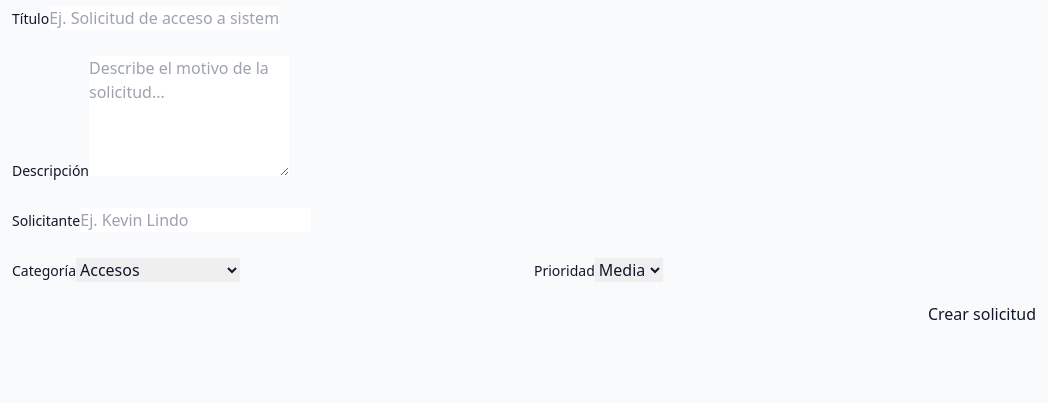
RequestForm › should render validation messages when required fields are empty
Click the button "Crear solicitud" at (982, 314), box x1=928 y1=302 x2=1036 y2=326
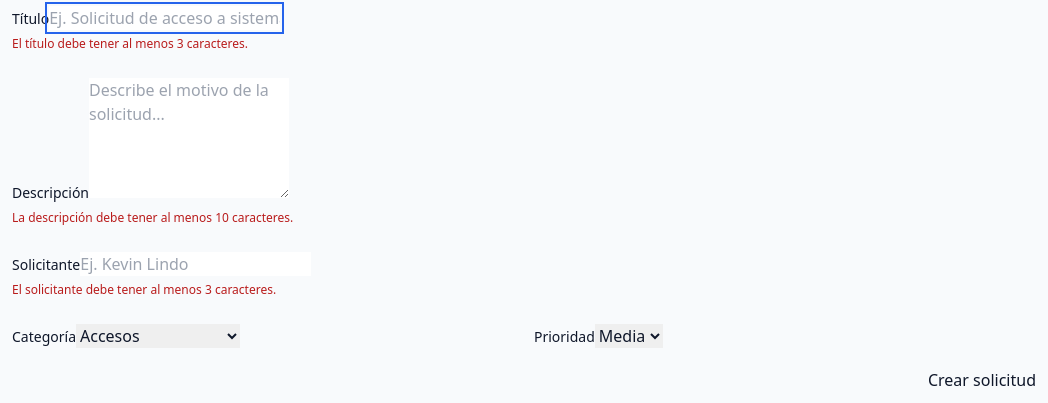
Result: the text "El título debe tener al menos 3 caracteres." is shown at x1=12 y1=35 x2=248 y2=52
Result: the text "La descripción debe tener al menos 10 caracteres." is shown at x1=12 y1=209 x2=293 y2=226
Result: the text "El solicitante debe tener al menos 3 caracteres." is shown at x1=12 y1=281 x2=276 y2=298
